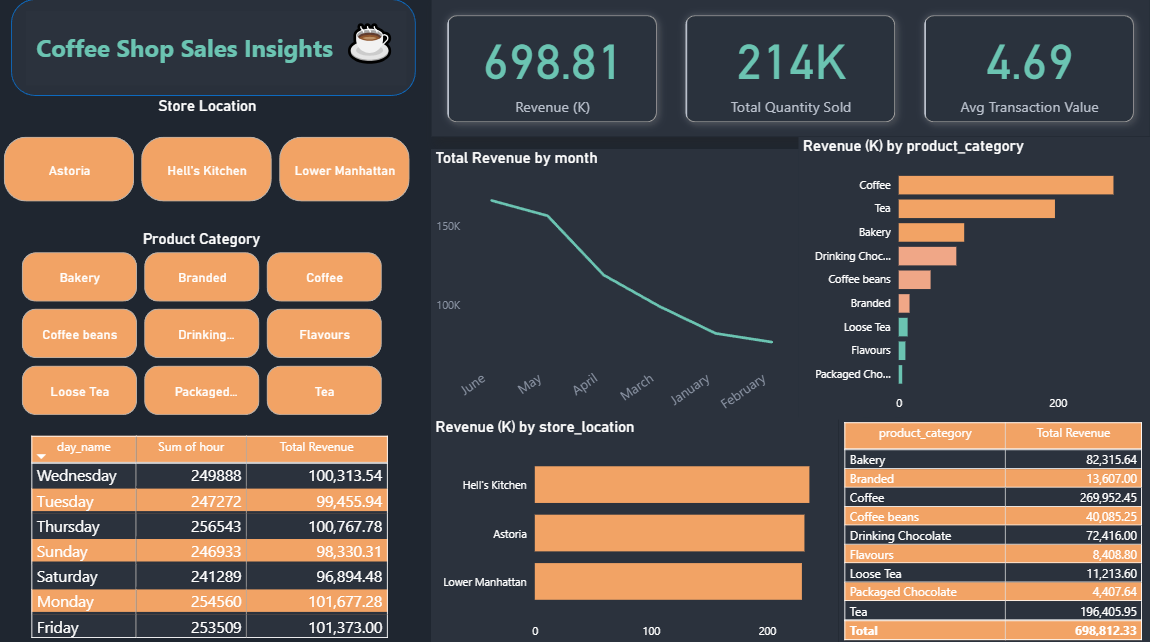

What the dashboard file says about the page in this screenshot:
{"tool":"powerbi","page":{"name":"Page 1","canvas":[1280,720],"ordinal":0},"visuals":[{"type":"cardVisual","fields":{"Data":["Sheet1.Revenue (K)","Sheet1.Total Quantity Sold","Sheet1.Avg Transaction Value"]},"box":[480,0,799.4,153.1],"z":0},{"type":"lineChart","fields":{"Category":["Sheet1.month"],"Y":["Sheet1.Total Revenue"]},"box":[480,166.7,408.3,313.3],"z":1000},{"type":"barChart","fields":{"Category":["Sheet1.store_location"],"Y":["Sheet1.Revenue (K)"]},"box":[480,465,452.5,255],"z":2000},{"type":"barChart","fields":{"Category":["Sheet1.product_category"],"Y":["Sheet1.Revenue (K)"]},"box":[888.2,153.1,391.2,313.7],"z":3000},{"type":"tableEx","fields":{"Values":["Sheet1.day_name","Sum(Sheet1.hour)","Sheet1.Total Revenue"]},"box":[30,480,420,240],"z":4000},{"type":"tableEx","fields":{"Values":["Sheet1.product_category","Sheet1.Total Revenue"]},"box":[932.5,465,347.5,255],"z":5000},{"type":"advancedSlicerVisual","title":"Store Location","fields":{"Values":["Sheet1.store_location"]},"box":[0,107.7,463,141.7],"z":6000},{"type":"advancedSlicerVisual","title":"Product Category","fields":{"Values":["Sheet1.product_category"]},"box":[0,256,450,212],"z":7000},{"type":"shape","box":[13.2,0,449.8,107.7],"z":8000},{"type":"textbox","box":[30,12.5,422.5,82.5],"z":9000}]}

Visuals, with their boxes in screenshot pixels (x1, y1, x2, y2), scaled from the page's 1280x720 canvas onto the 1150x642 screenshot:
cardVisual - Sheet1.Revenue (K) x Sheet1.Total Quantity Sold: x1=431 y1=0 x2=1149 y2=137
lineChart - Sheet1.month x Sheet1.Total Revenue: x1=431 y1=149 x2=798 y2=428
barChart - Sheet1.store_location x Sheet1.Revenue (K): x1=431 y1=415 x2=838 y2=641
barChart - Sheet1.product_category x Sheet1.Revenue (K): x1=798 y1=137 x2=1149 y2=416
tableEx - Sheet1.day_name x Sum(Sheet1.hour): x1=27 y1=428 x2=404 y2=641
tableEx - Sheet1.product_category x Sheet1.Total Revenue: x1=838 y1=415 x2=1149 y2=641
"Store Location" advancedSlicerVisual: x1=0 y1=96 x2=416 y2=222
"Product Category" advancedSlicerVisual: x1=0 y1=228 x2=404 y2=417
shape: x1=12 y1=0 x2=416 y2=96
textbox: x1=27 y1=11 x2=407 y2=85
